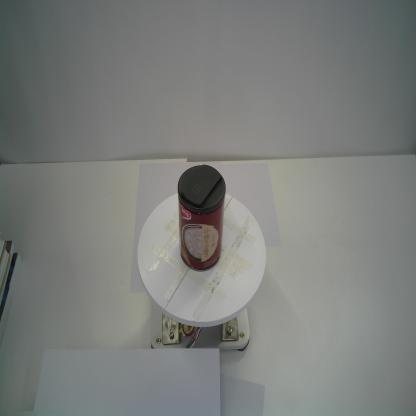Canned Food: (176, 163, 226, 273)
